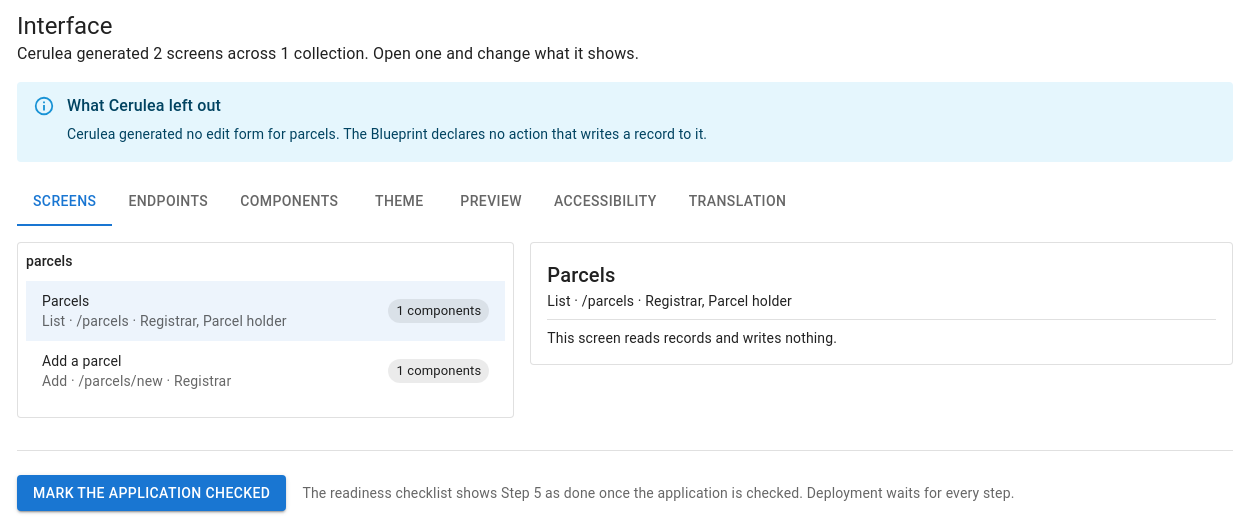
Test case: Step 5 Interface › says whether a screen captures records without a connection
Expected: the element with test id "panel-screens" is shown, [17, 242, 1233, 426]
Expected: the text "This screen reads records and writes nothing." is shown, [547, 330, 837, 346]
Click the text "Add a parcel". click: [82, 361]
box: [42, 353, 122, 369]
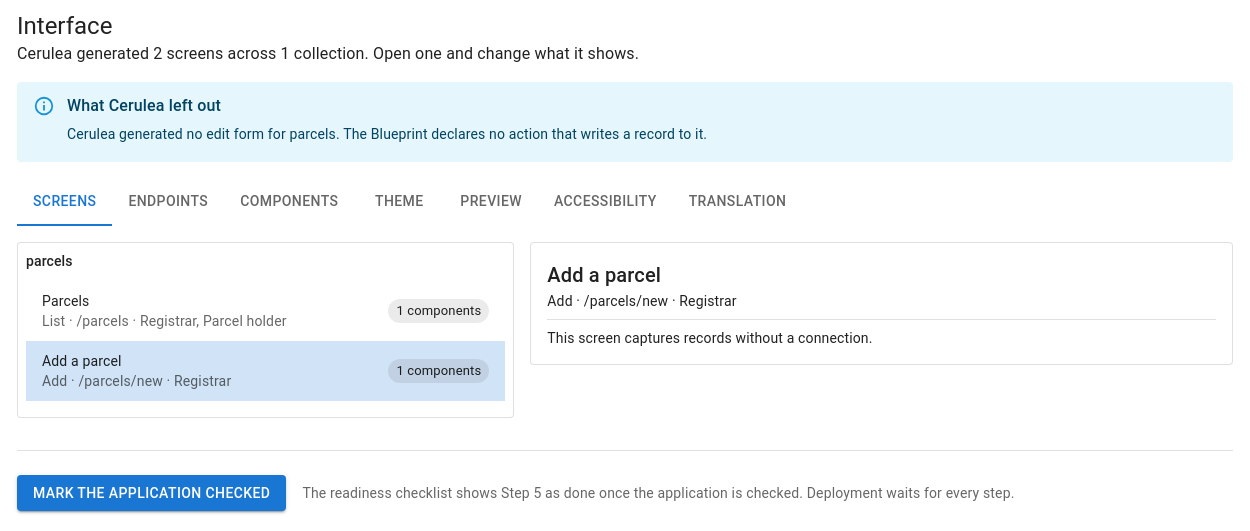
Result: the text "This screen captures records without a connection." is shown at [547, 330, 873, 346]
